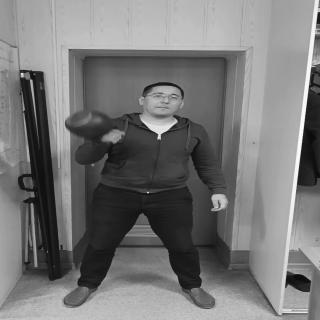girya: (66, 110, 124, 145)
